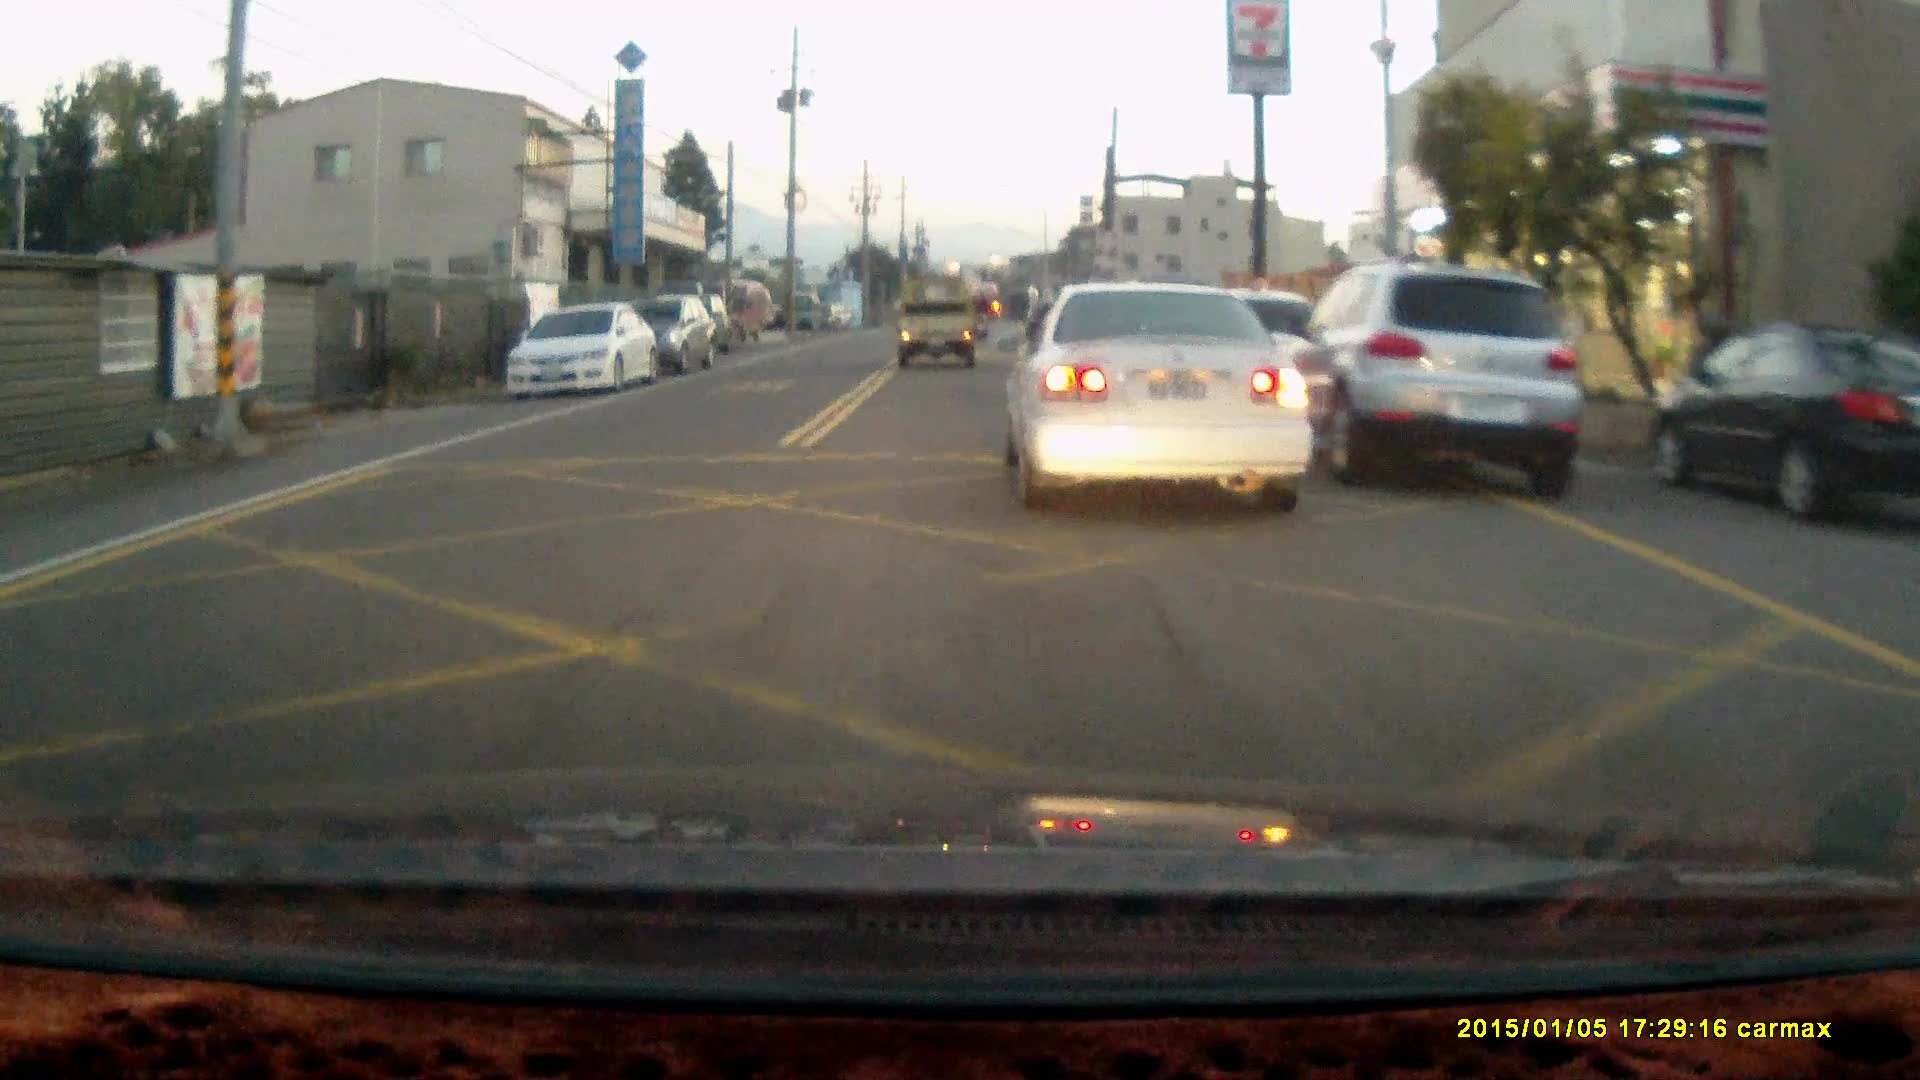rider: (967, 289, 993, 339)
vehicle: (1270, 263, 1590, 498), (1000, 276, 1312, 501), (1650, 324, 1919, 518), (499, 296, 663, 400), (893, 279, 981, 367), (626, 295, 712, 375)
